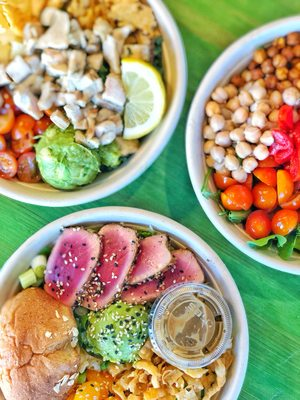curry: (75, 301, 150, 364)
sushi: (0, 206, 249, 400), (0, 0, 187, 210), (184, 16, 300, 278)
